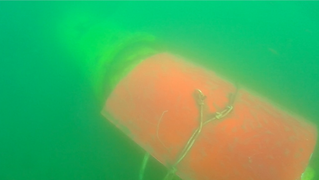4: (74, 19, 97, 39)
leak: (99, 52, 319, 180)
pipe: (61, 10, 166, 108), (298, 164, 318, 180)
